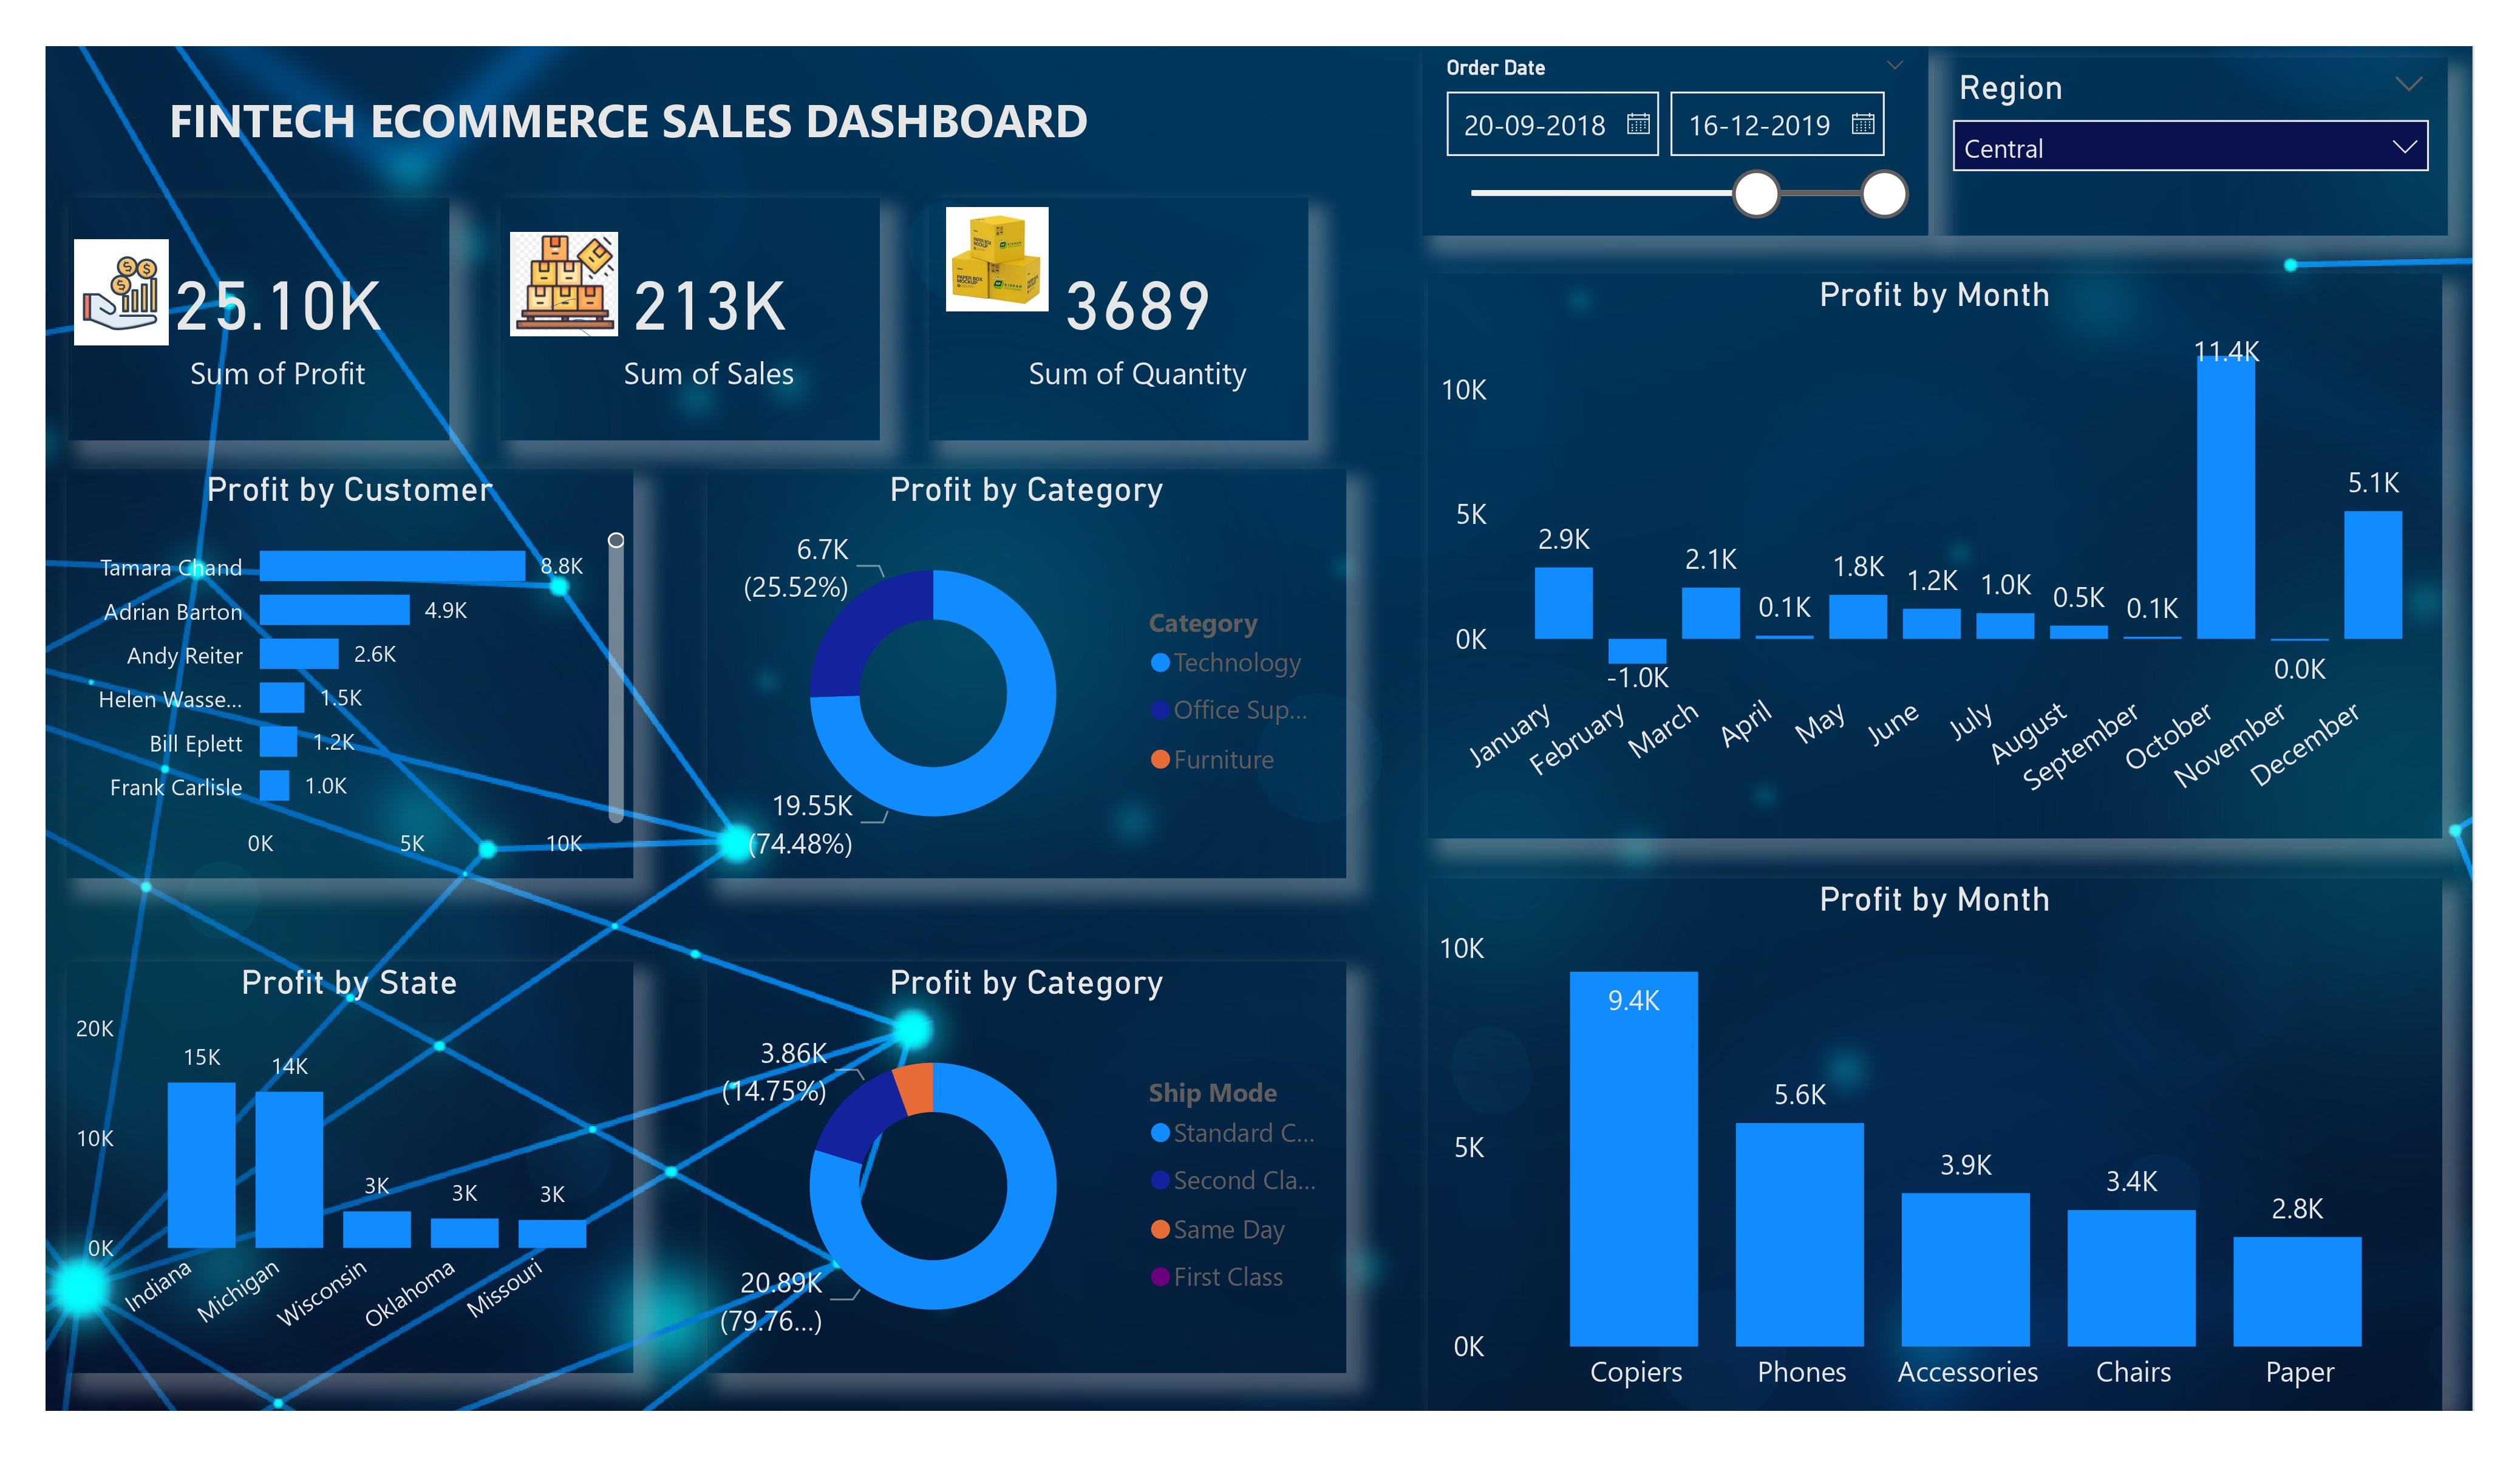

What the dashboard file says about the page in this screenshot:
{"tool":"powerbi","page":{"name":"Page 1","canvas":[1280,720],"ordinal":0},"visuals":[{"type":"textbox","box":[39.7,17,535.7,49.6],"z":0},{"type":"columnChart","title":" Profit by Month","fields":{"Category":["Orders.Order Date.Variation.Date Hierarchy.Year","Orders.Order Date.Variation.Date Hierarchy.Quarter","Orders.Order Date.Variation.Date Hierarchy.Month","Orders.Order Date.Variation.Date Hierarchy.Day"],"Y":["Sum(Orders.Profit)"]},"box":[728.5,120.5,535.7,297.6],"z":1000},{"type":"columnChart","title":" Profit by Month","fields":{"Y":["Sum(Orders.Profit)"],"Category":["Orders.Sub-Category"]},"box":[728.5,439.4,535.7,280.6],"z":2000},{"type":"card","fields":{"Values":["Sum(Orders.Profit)"]},"box":[11.6,80,201.3,127.7],"z":3000},{"type":"card","fields":{"Values":["Sum(Orders.Sales)"]},"box":[240,80,200,127.7],"z":4000},{"type":"card","fields":{"Values":["Sum(Orders.Quantity)"]},"box":[465.8,80,200,127.7],"z":5000},{"type":"slicer","fields":{"Values":["Orders.Order Date"]},"box":[725.5,0,268,99.8],"z":6000},{"type":"slicer","fields":{"Values":["Orders.Region"]},"box":[996.3,5.7,270.8,94.1],"z":7000},{"type":"donutChart","title":"Profit by Category","fields":{"Y":["Sum(Orders.Profit)"],"Category":["Orders.Category"]},"box":[348.7,222.5,337.3,216.9],"z":8000},{"type":"donutChart","title":"Profit by Category","fields":{"Y":["Sum(Orders.Profit)"],"Category":["Orders.Ship Mode"]},"box":[348.7,483.3,337.3,216.9],"z":9000},{"type":"clusteredBarChart","title":" Profit by Customer","fields":{"Y":["Sum(Orders.Profit)"],"Category":["Orders.Customer Name"]},"box":[11.3,222.5,299.1,216.9],"z":10000},{"type":"columnChart","title":"Profit by State","fields":{"Y":["Sum(Orders.Profit)"],"Category":["Orders.State"]},"box":[11.3,483.3,299.1,216.9],"z":11000},{"type":"image","box":[10.3,89,59.4,81.3],"z":12000},{"type":"image","box":[240,89,67.1,72.3],"z":13000},{"type":"image","box":[455.5,80,92.9,64.5],"z":14000}]}

Visuals, with their boxes in screenshot pixels (x1, y1, x2, y2):
textbox: detection(90, 39, 1130, 136)
" Profit by Month" columnChart: detection(1428, 240, 2468, 818)
" Profit by Month" columnChart: detection(1428, 860, 2468, 1404)
card - Sum(Orders.Profit): detection(36, 162, 426, 410)
card - Sum(Orders.Sales): detection(479, 162, 867, 410)
card - Sum(Orders.Quantity): detection(918, 162, 1306, 410)
slicer - Orders.Order Date: detection(1422, 7, 1942, 200)
slicer - Orders.Region: detection(1947, 18, 2473, 200)
"Profit by Category" donutChart: detection(690, 438, 1345, 860)
"Profit by Category" donutChart: detection(690, 945, 1345, 1366)
" Profit by Customer" clusteredBarChart: detection(35, 438, 616, 860)
"Profit by State" columnChart: detection(35, 945, 616, 1366)
image: detection(33, 179, 148, 337)
image: detection(479, 179, 610, 320)
image: detection(897, 162, 1078, 287)
